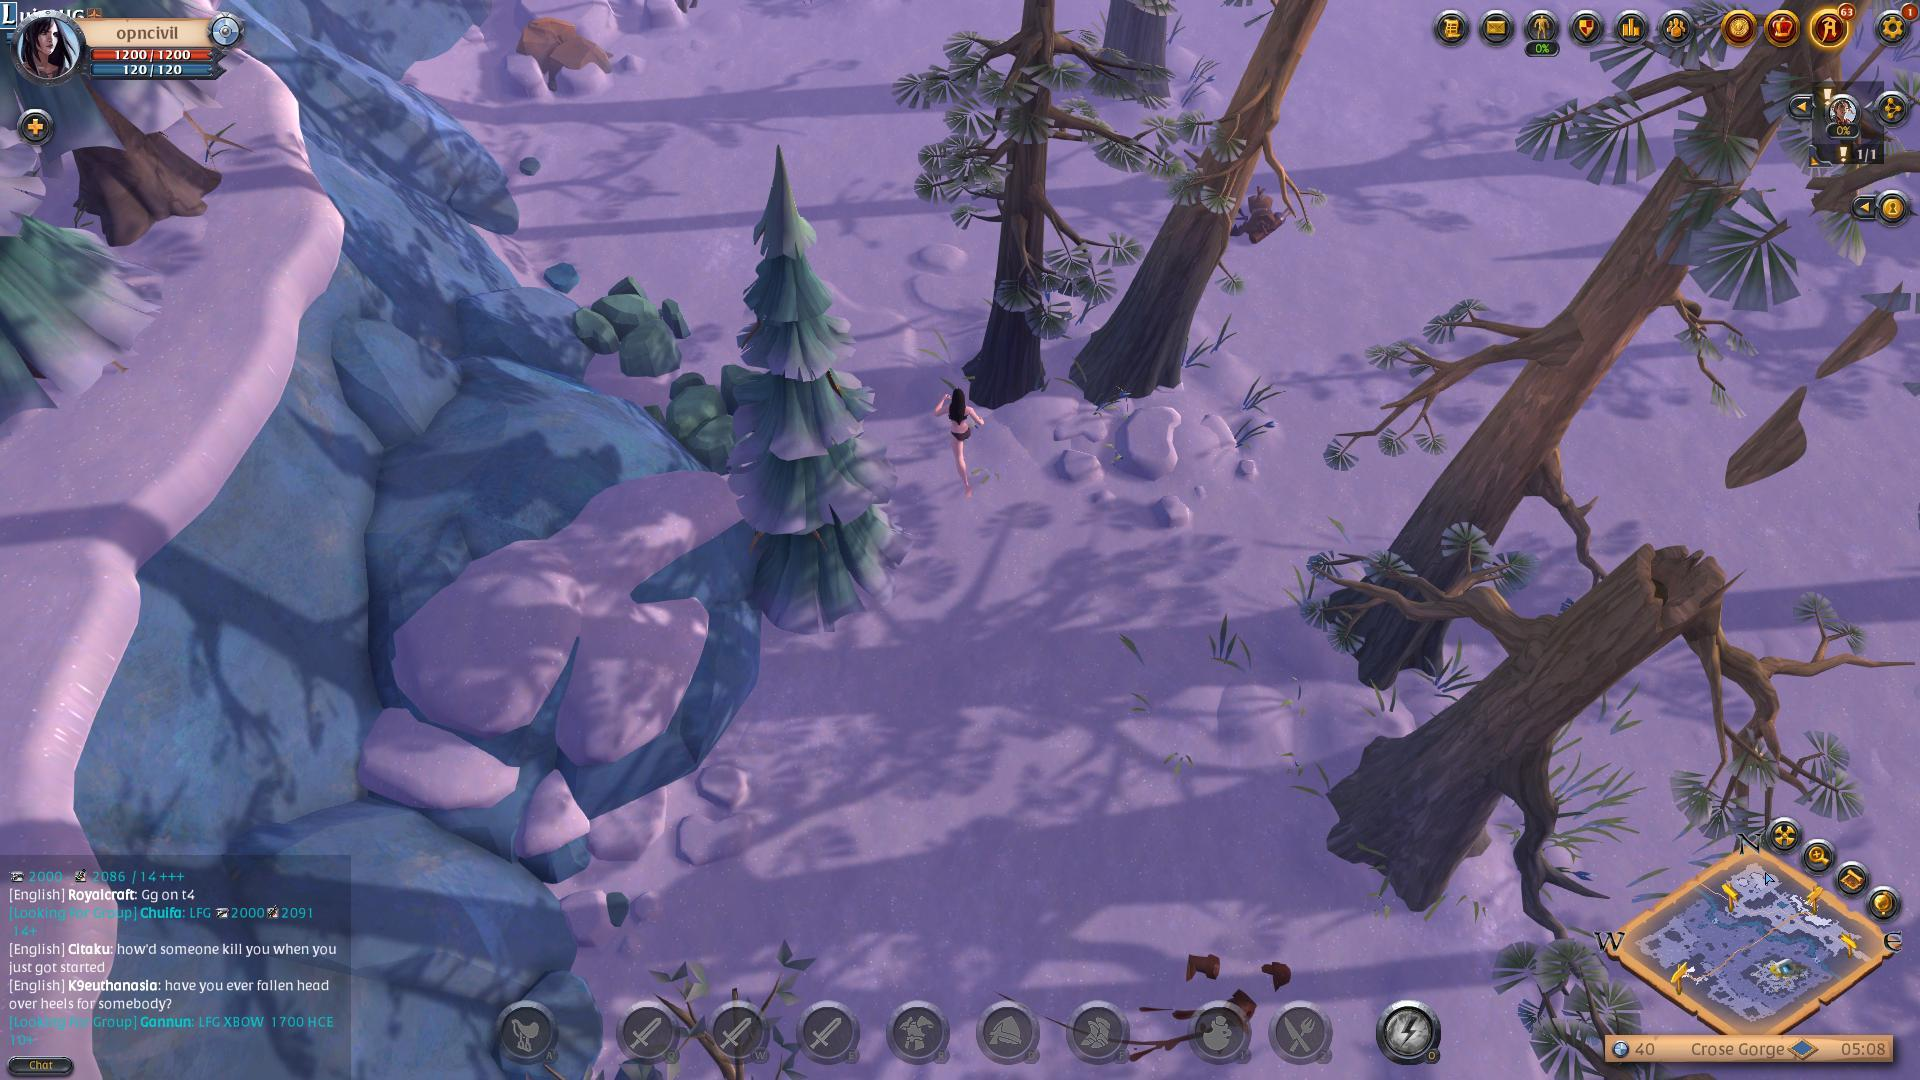limestone: (514, 12, 617, 87)
sandstone: (568, 270, 692, 377), (654, 363, 740, 476)
